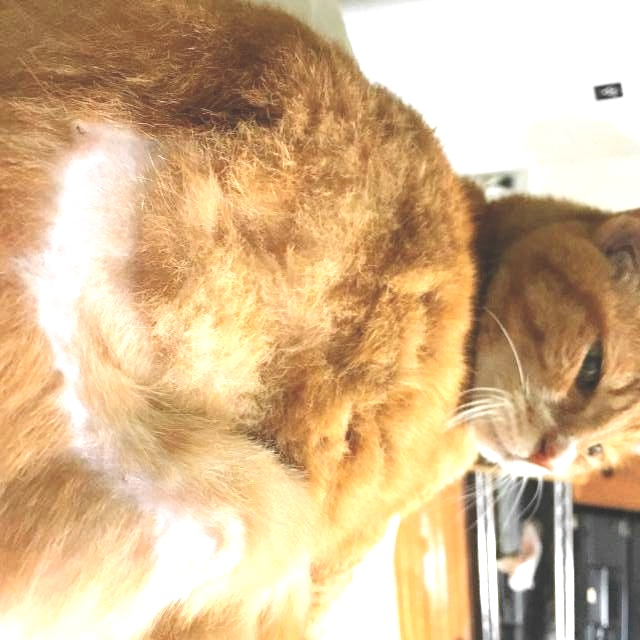hairloss: (38, 146, 151, 350)
